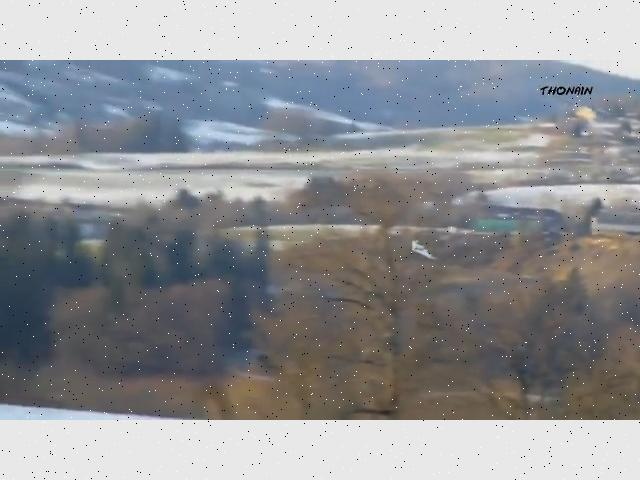Anti-Drone: (411, 241, 435, 260)
